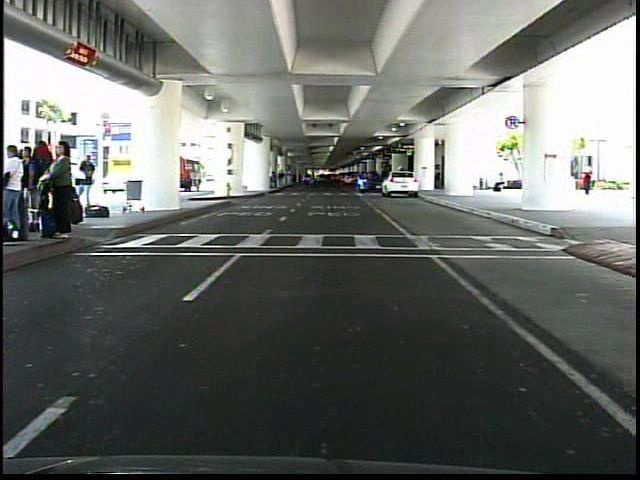person: (77, 150, 99, 207), (576, 163, 599, 203), (490, 167, 507, 199)
